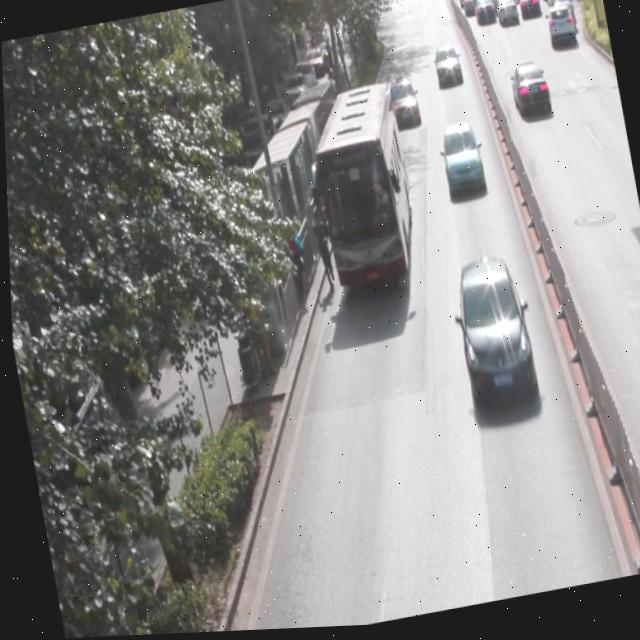car: (446, 255, 534, 410), (435, 124, 485, 198), (506, 63, 551, 127), (386, 79, 419, 132), (429, 46, 461, 91)
van: (301, 83, 420, 293)
